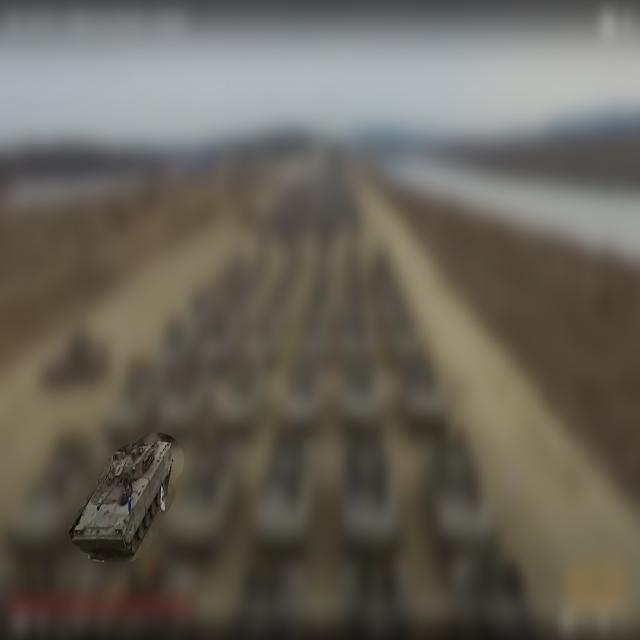tank: (69, 433, 179, 563)
